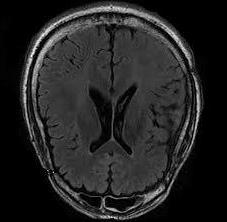Normal_Brain: (1, 4, 227, 222)
